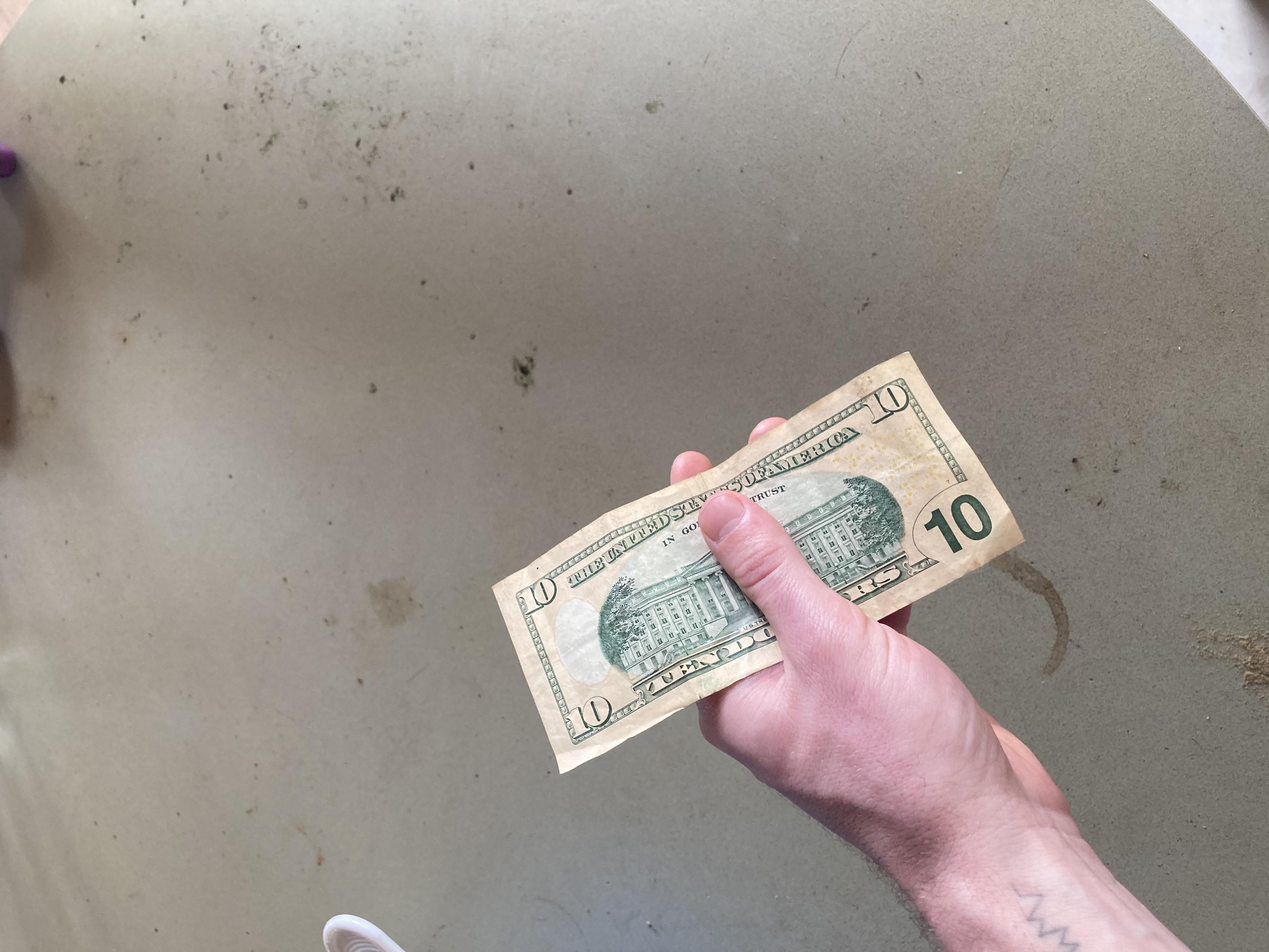ten-back: (237, 370, 803, 771)
